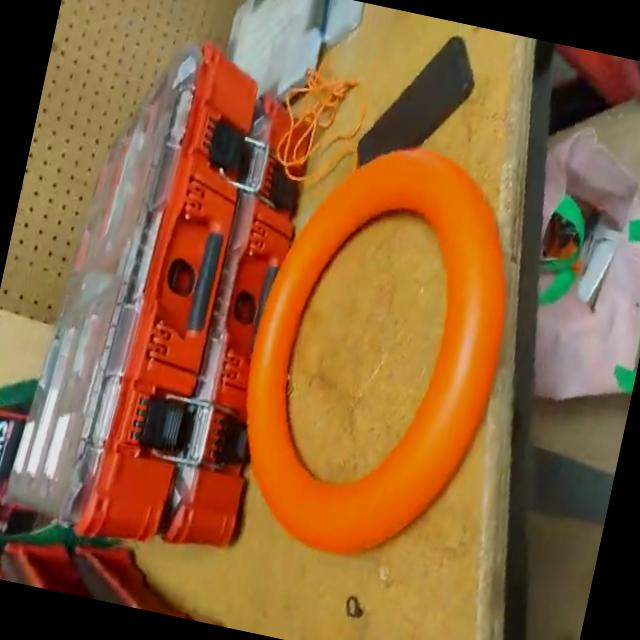note: (210, 124, 542, 584)
